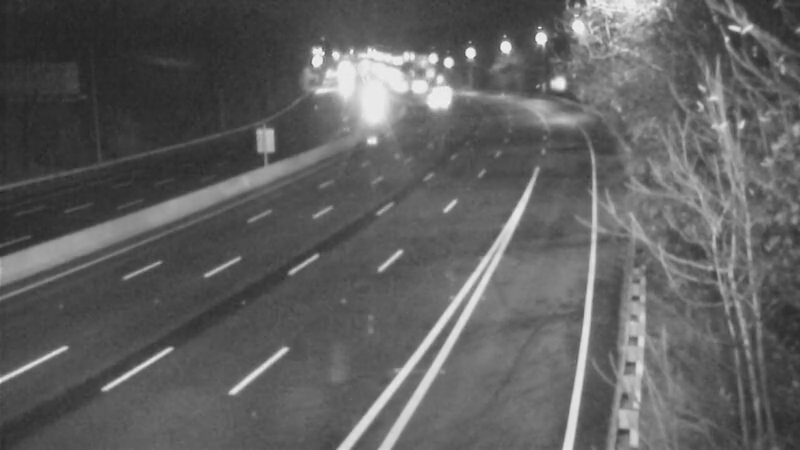vehicle: (390, 59, 440, 109), (416, 66, 466, 116), (407, 74, 457, 124), (346, 77, 396, 127)
